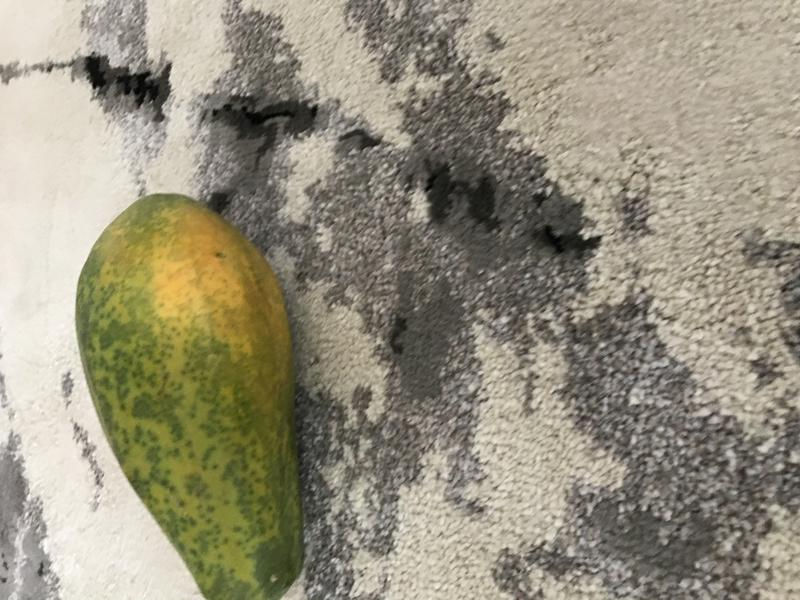papaya: (64, 181, 330, 600)
